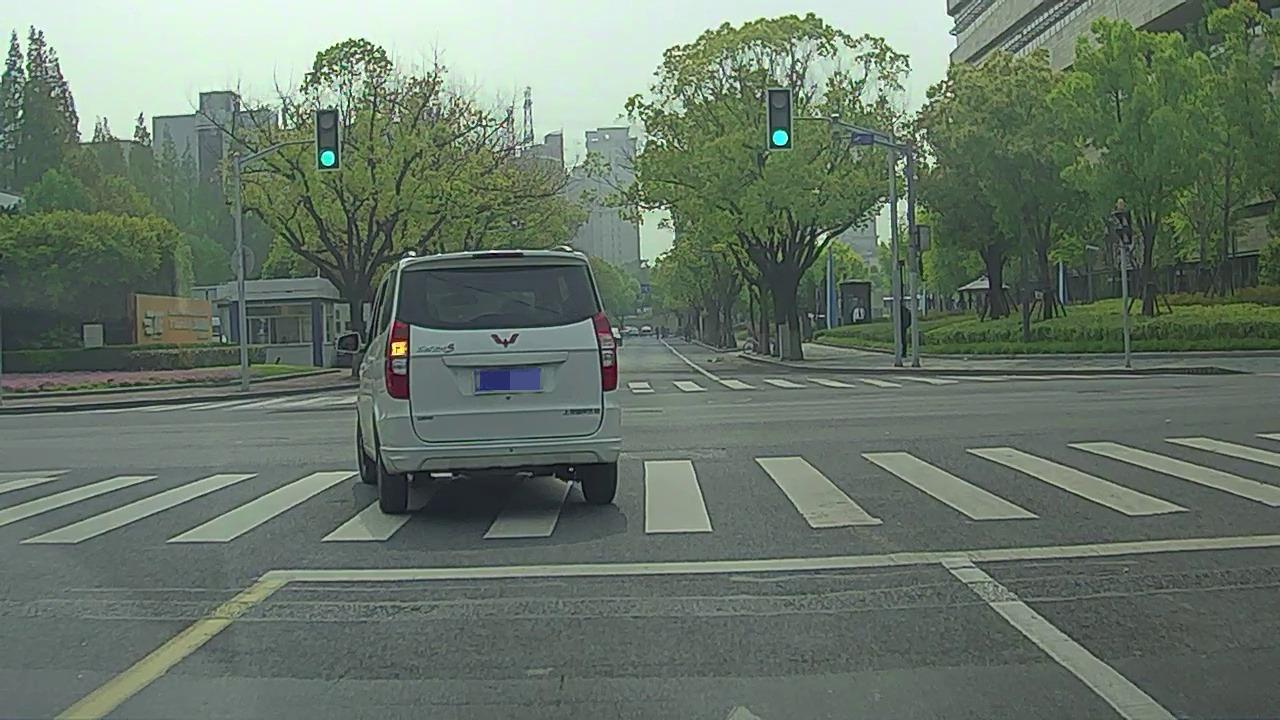traffic_light: (314, 112, 340, 168), (768, 89, 791, 150)
